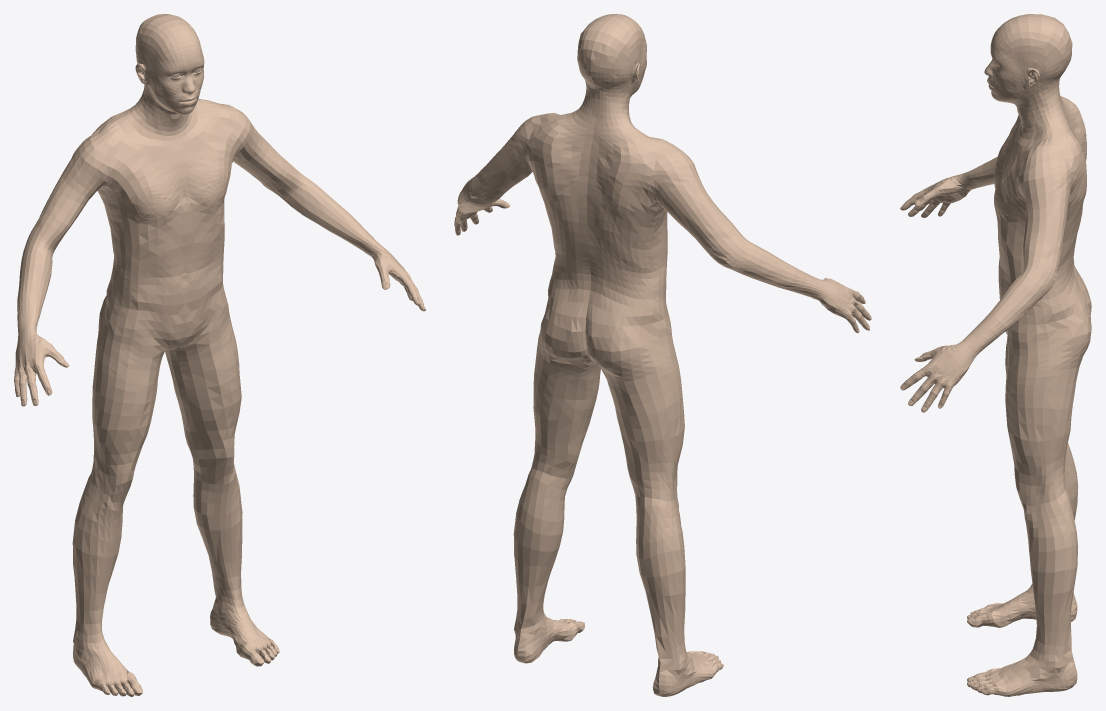
Rendered from male-young-average-medium.glb.
3 views of the same model, side by side, from view 1: azimuth 30°, elevation 25°; view 2: azimuth 150°, elevation 25°; view 3: azimuth 270°, elevation 25° (orthographic).
Visible parts, largest first — view 1: world; view 2: world; view 3: world.
Boxes of the visible parts, x1,y1,x2,y2 form: world: (14,14,425,696); world: (454,14,871,696); world: (900,14,1091,696).
Size of the model in its own units: 1.24 by 1.89 by 0.5131.
